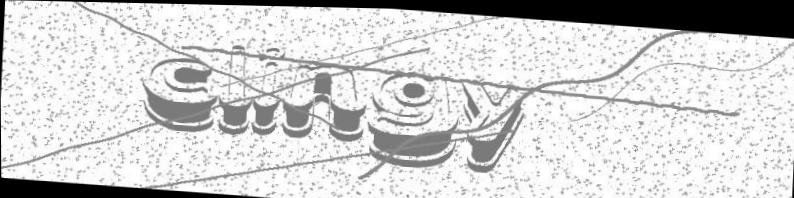c: (137, 53, 217, 134)
g: (363, 66, 460, 169)
i: (249, 42, 283, 135)
l: (215, 39, 255, 135)
n: (279, 58, 368, 141)
y: (457, 76, 525, 175)
